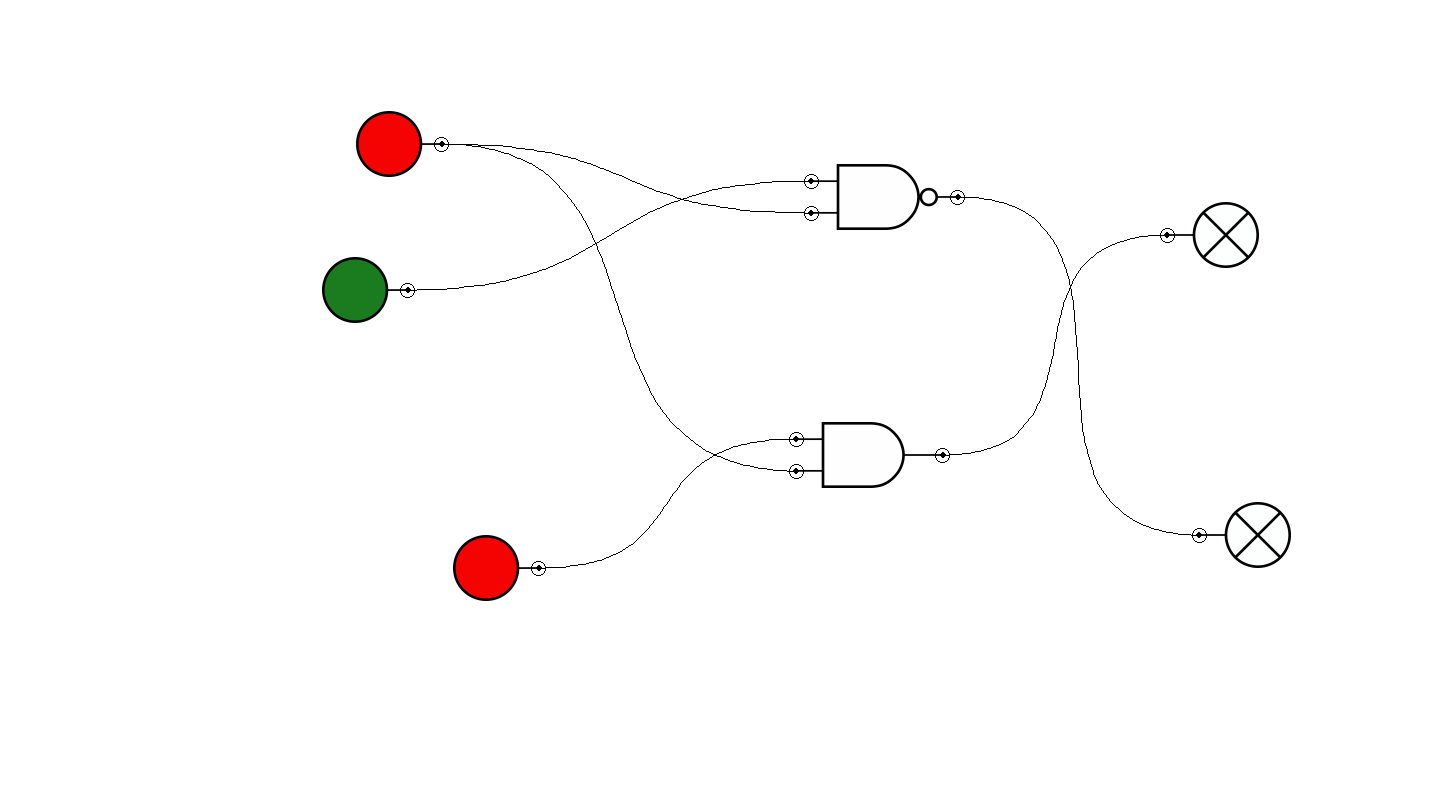and: (789, 422, 950, 488)
bulb: (1192, 502, 1291, 568), (1160, 202, 1259, 268)
nand: (804, 164, 965, 230)
switch_False: (356, 111, 449, 177), (453, 535, 546, 601)
switch_True: (322, 257, 415, 323)
